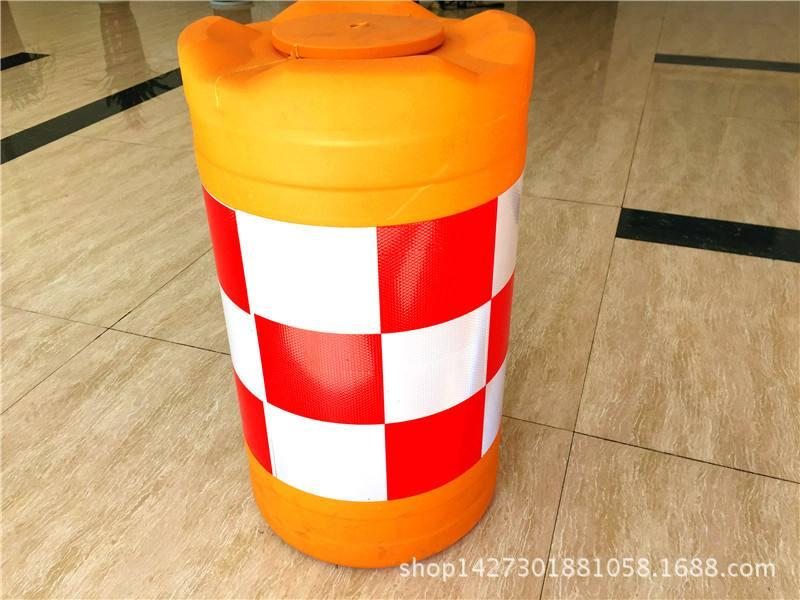sign: (167, 1, 542, 575)
